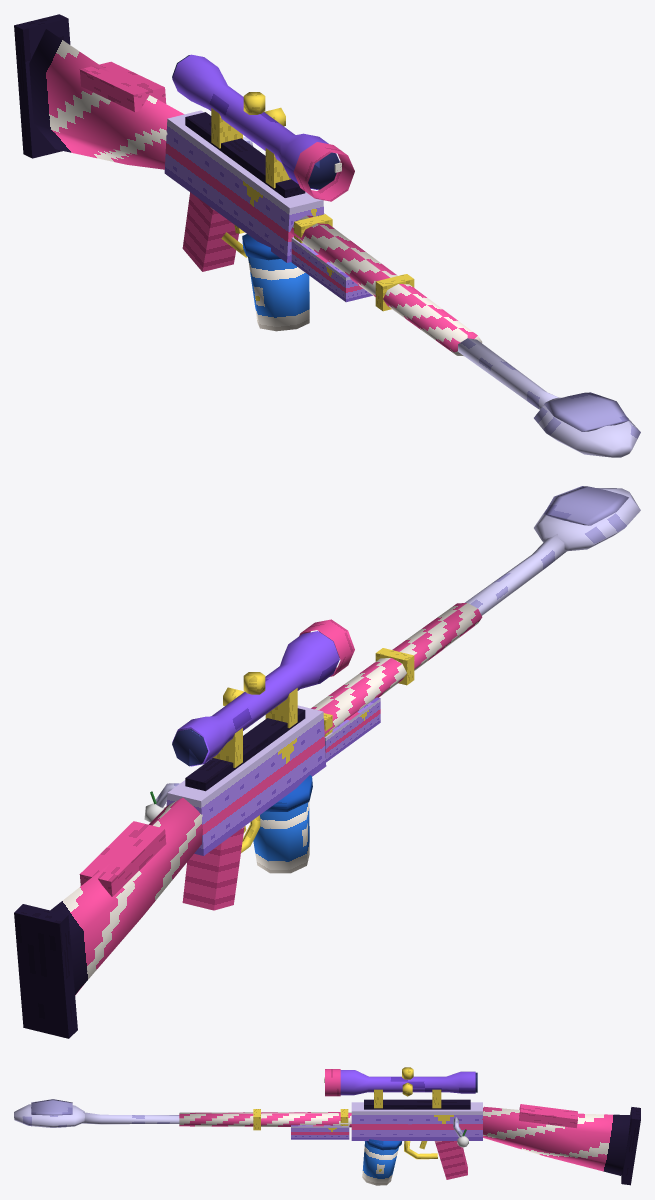
The model's file is Long Spoon.fbx.
3 views of the same model, one above another, from view 1: azimuth 30°, elevation 25°; view 2: azimuth 150°, elevation 25°; view 3: azimuth 270°, elevation 25° (orthographic). The views are drawn at different scales.
Visible parts, largest first — view 1: Long Spoon stock, Long Spoon receiver, Long Spoon spoon handle, Long Spoon scope, Long Spoon pint, Long Spoon butt pad, Long Spoon grip, Long Spoon spoon bowl, Long Spoon cheek rest, Long Spoon spoon dish, Long Spoon spoon neck, Long Spoon rail (+5 smaller); view 2: Long Spoon stock, Long Spoon receiver, Long Spoon butt pad, Long Spoon scope, Long Spoon spoon handle, Long Spoon grip, Long Spoon pint, Long Spoon cheek rest, Long Spoon spoon bowl, Long Spoon spoon neck, Long Spoon rail, Long Spoon spoon dish (+3 smaller); view 3: Long Spoon stock, Long Spoon receiver, Long Spoon scope, Long Spoon spoon handle, Long Spoon pint, Long Spoon spoon bowl, Long Spoon cheek rest, Long Spoon rail, Long Spoon spoon neck, Long Spoon grip, Long Spoon handguard, Long Spoon butt pad (+5 smaller).
Boxes of the visible parts, x1,y1,x2,y2 form: Long Spoon stock: (29,29,184,169); Long Spoon receiver: (164,110,324,262); Long Spoon spoon handle: (290,215,482,355); Long Spoon scope: (172,54,339,189); Long Spoon pint: (248,256,309,331); Long Spoon butt pad: (14,14,70,158); Long Spoon grip: (182,192,238,271); Long Spoon spoon bowl: (534,397,640,457); Long Spoon cheek rest: (79,61,166,111); Long Spoon spoon dish: (544,392,628,431); Long Spoon spoon neck: (458,338,558,409); Long Spoon rail: (185,112,305,197); Long Spoon stock: (50,797,202,995); Long Spoon receiver: (166,705,326,855); Long Spoon butt pad: (14,904,77,1038); Long Spoon scope: (172,631,339,766); Long Spoon spoon handle: (311,603,482,734); Long Spoon grip: (182,826,244,910); Long Spoon pint: (253,802,309,873); Long Spoon cheek rest: (79,821,166,896); Long Spoon spoon bowl: (534,488,640,551); Long Spoon spoon neck: (465,534,566,615); Long Spoon rail: (185,708,305,791); Long Spoon spoon dish: (544,486,628,525); Long Spoon stock: (482,1106,630,1175); Long Spoon receiver: (351,1102,482,1140); Long Spoon scope: (340,1070,475,1095); Long Spoon spoon handle: (179,1112,351,1127); Long Spoon pint: (362,1142,398,1185); Long Spoon spoon bowl: (14,1104,84,1127); Long Spoon cheek rest: (519,1104,577,1128); Long Spoon rail: (364,1099,470,1109); Long Spoon spoon neck: (82,1112,179,1124); Long Spoon grip: (434,1141,467,1179); Long Spoon handguard: (291,1125,349,1139); Long Spoon butt pad: (621,1107,640,1185).
Size of the model in its own units: 0.1225 by 0.2542 by 1.29.
16 materials, 15 textured.
